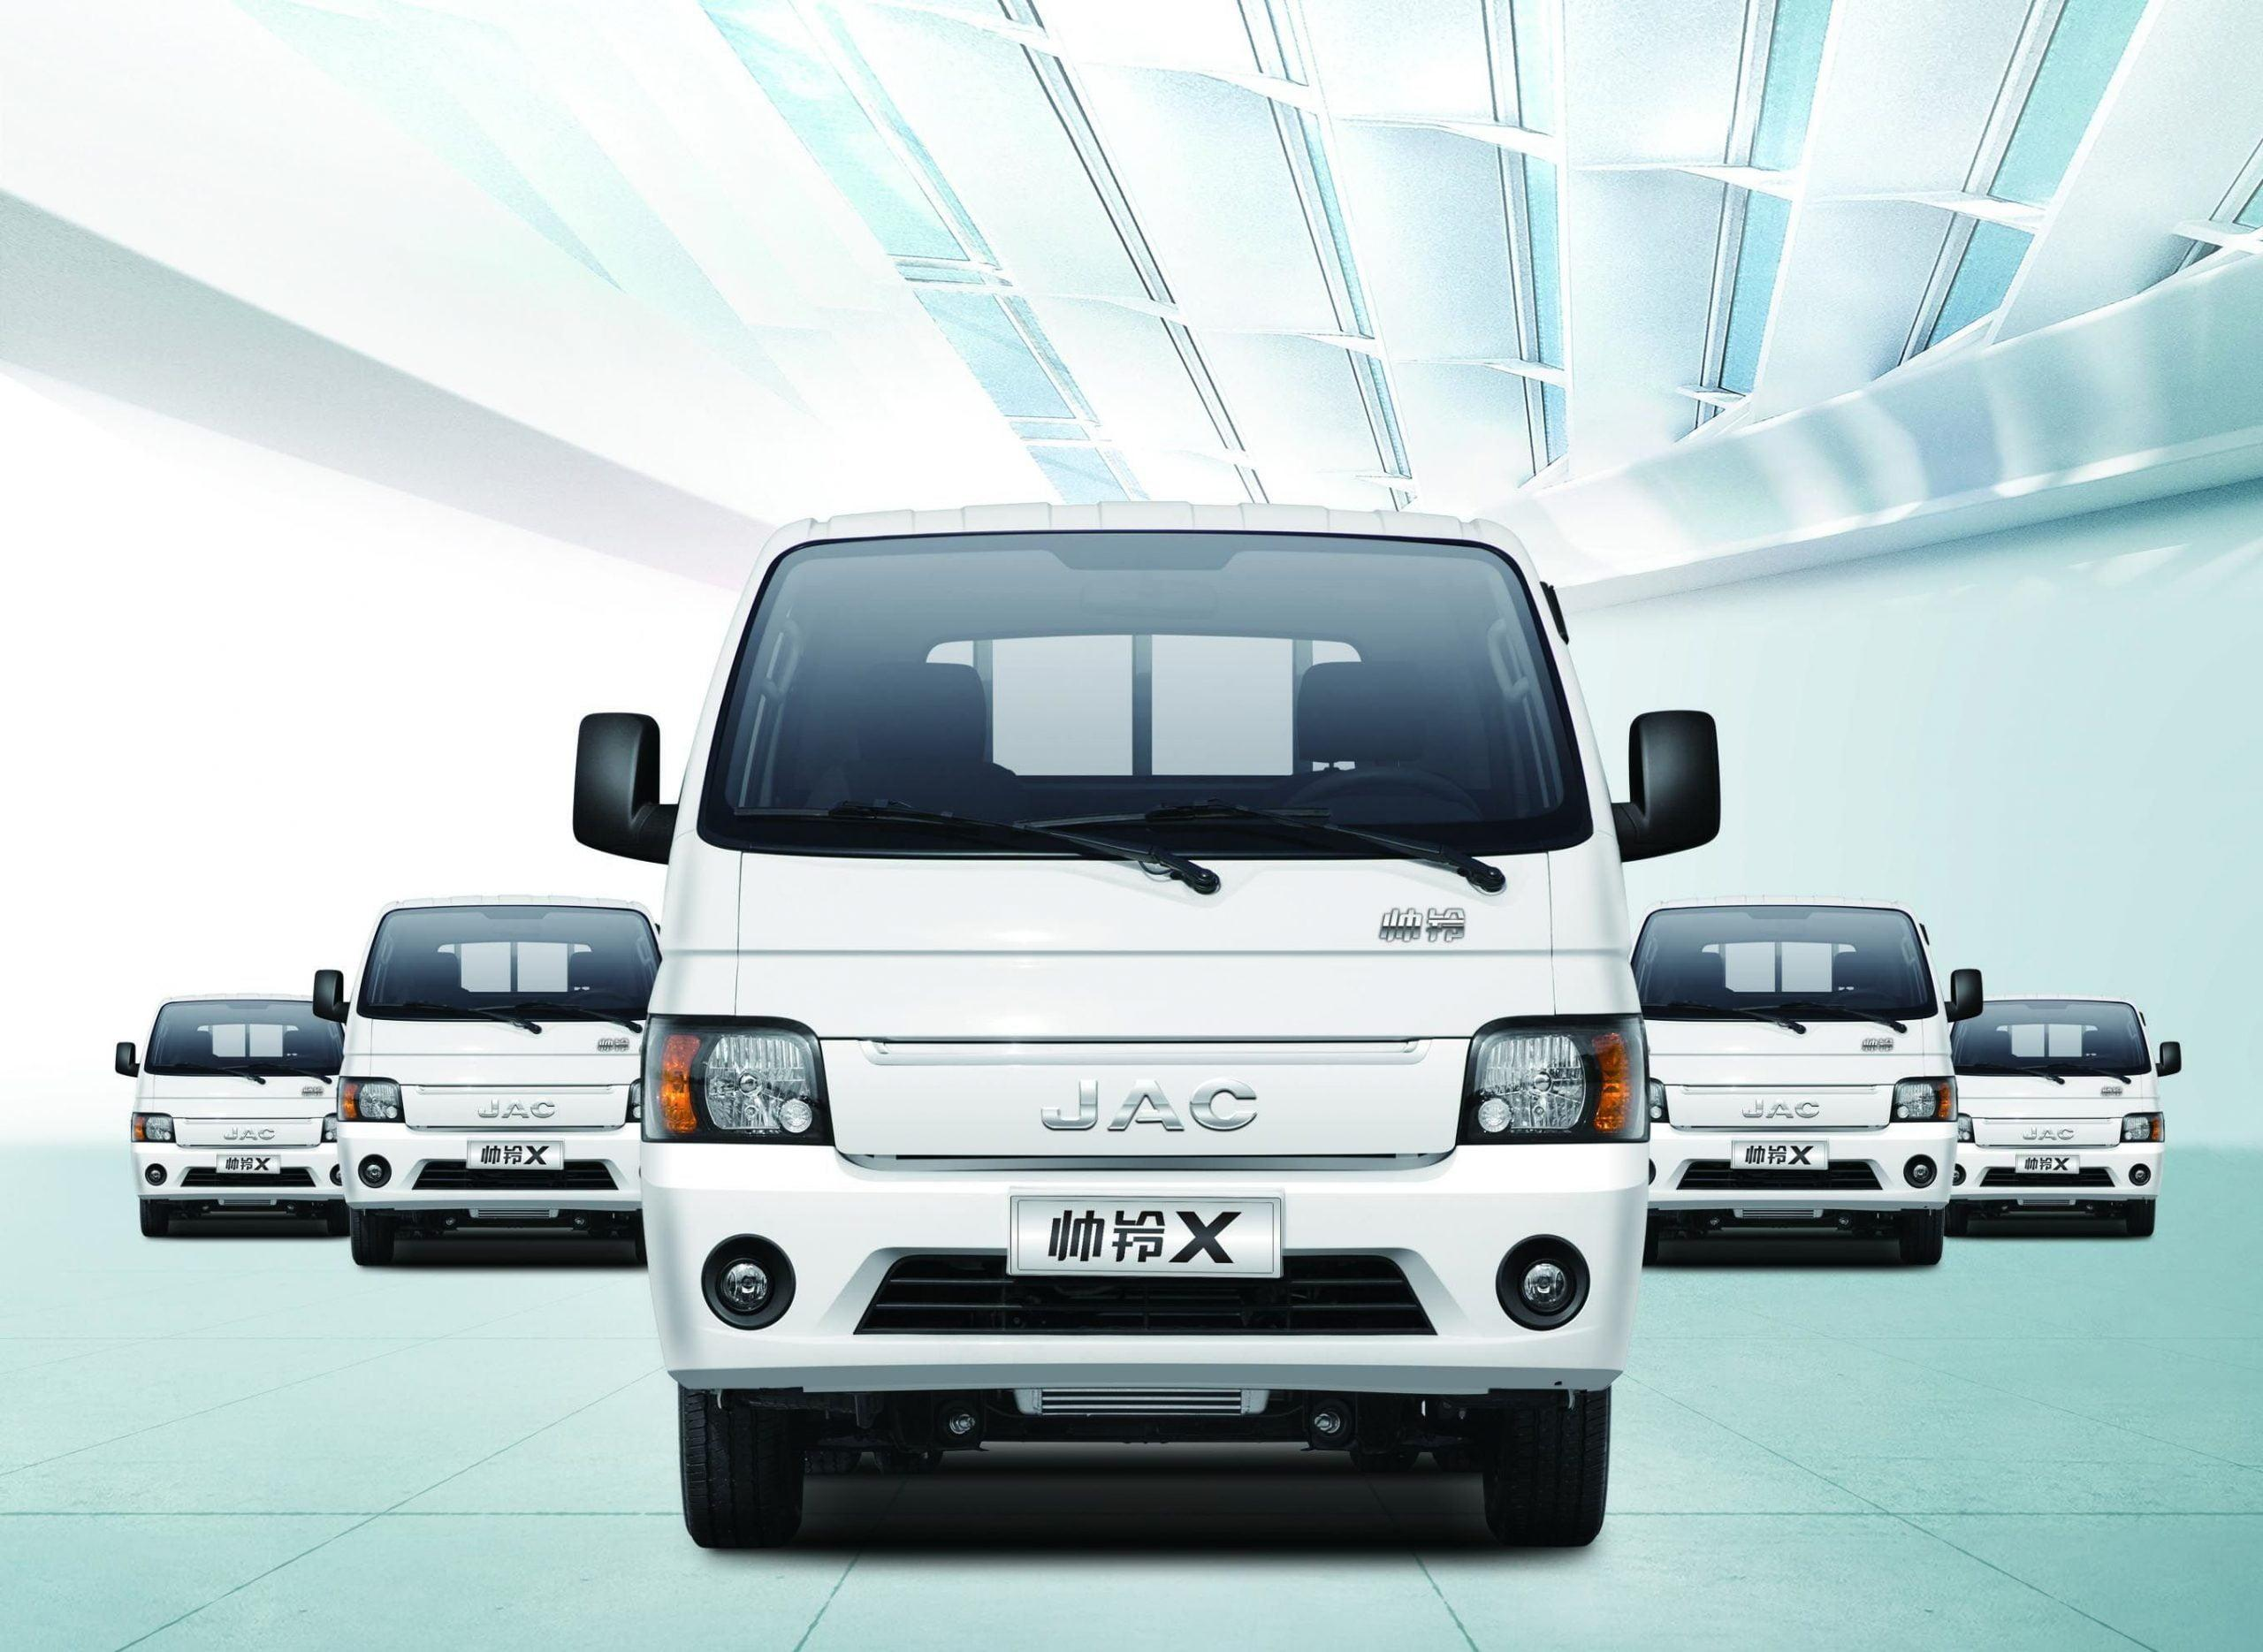windshield: (676, 517, 1592, 884)
